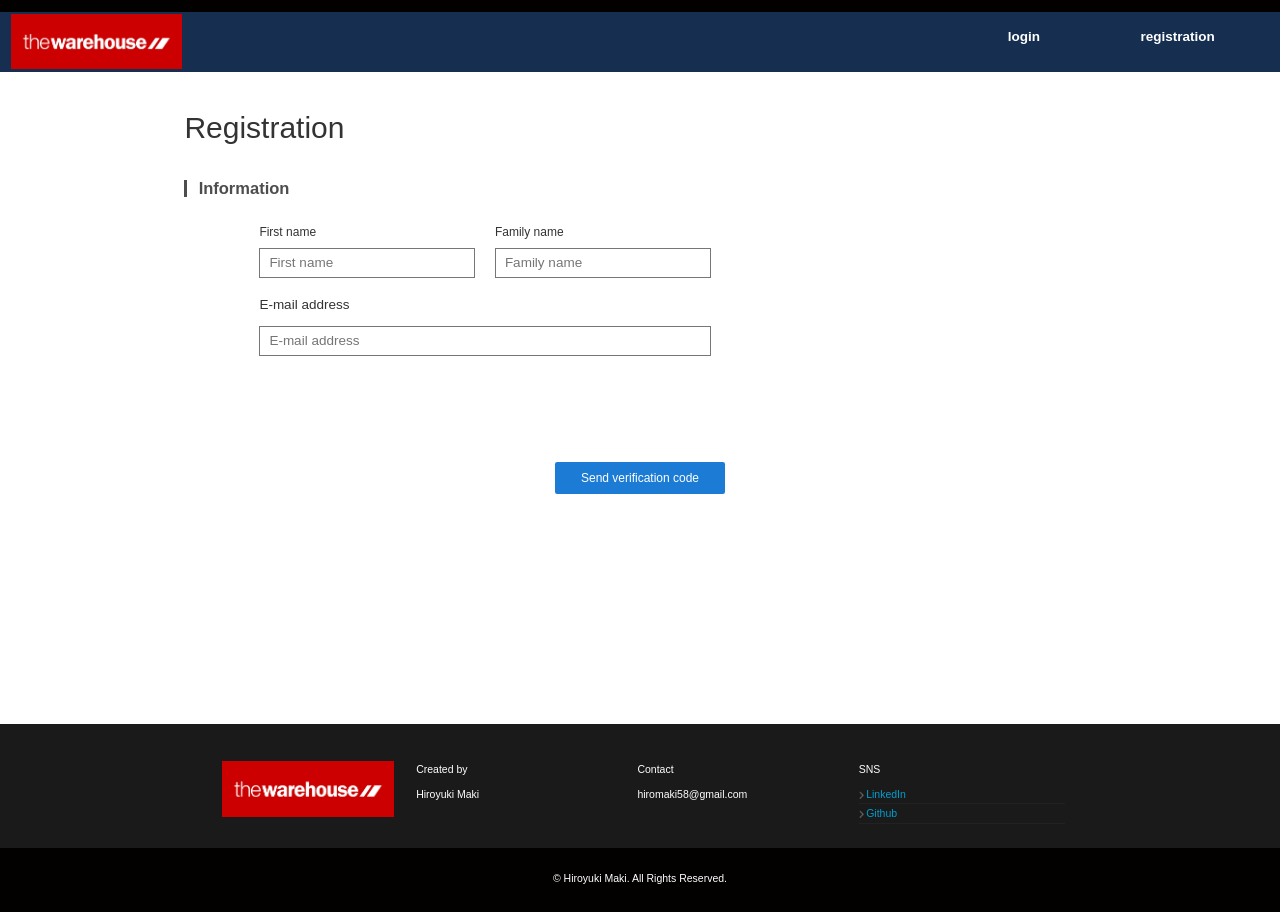
RegistrationPage › shows a message for an invalid code and stays on the code step
Type "Taro" into the field labelled "First name" at (367, 263), box [259,248,475,278]
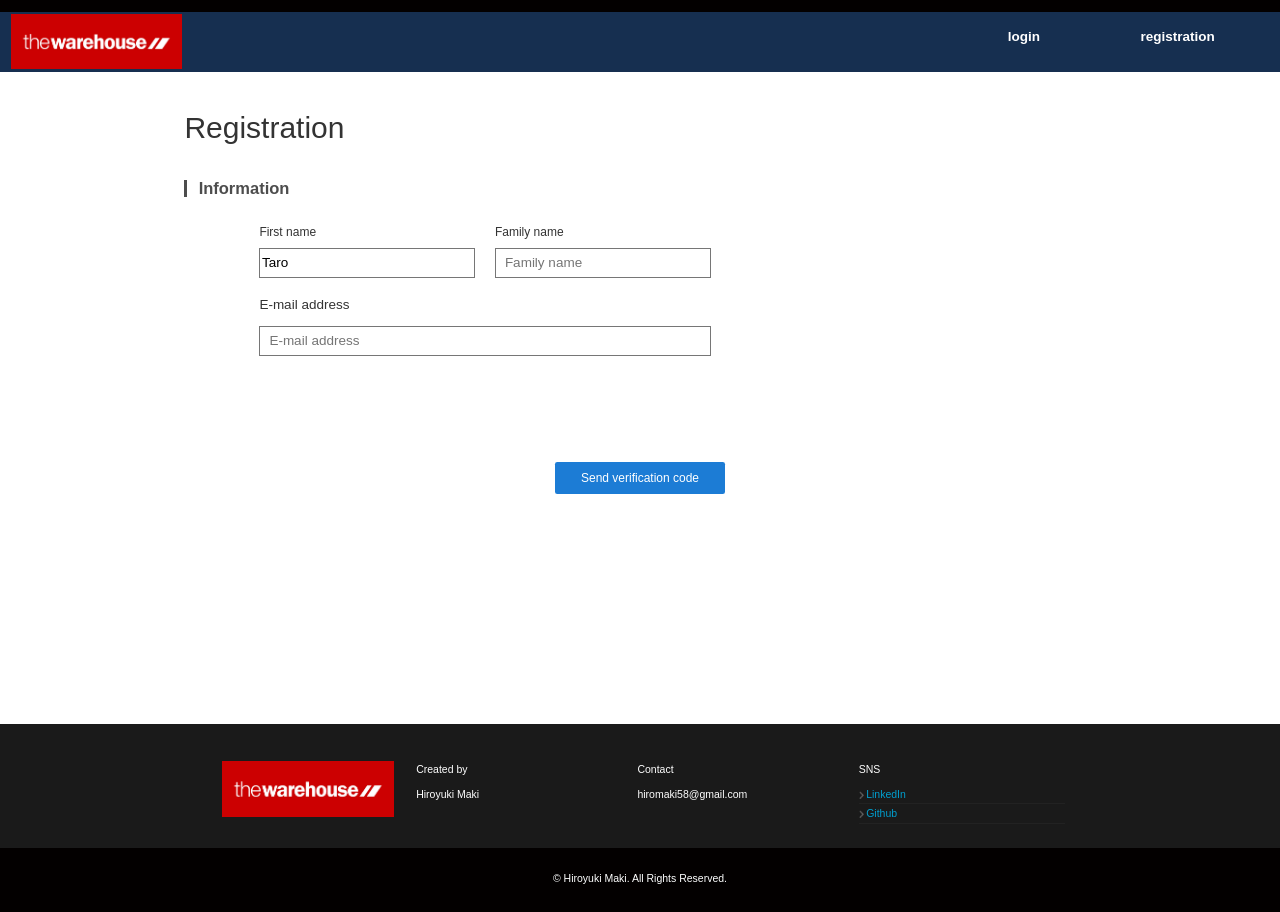
Type "Yamada" into the field labelled "Family name" at (603, 263), box [495,248,711,278]
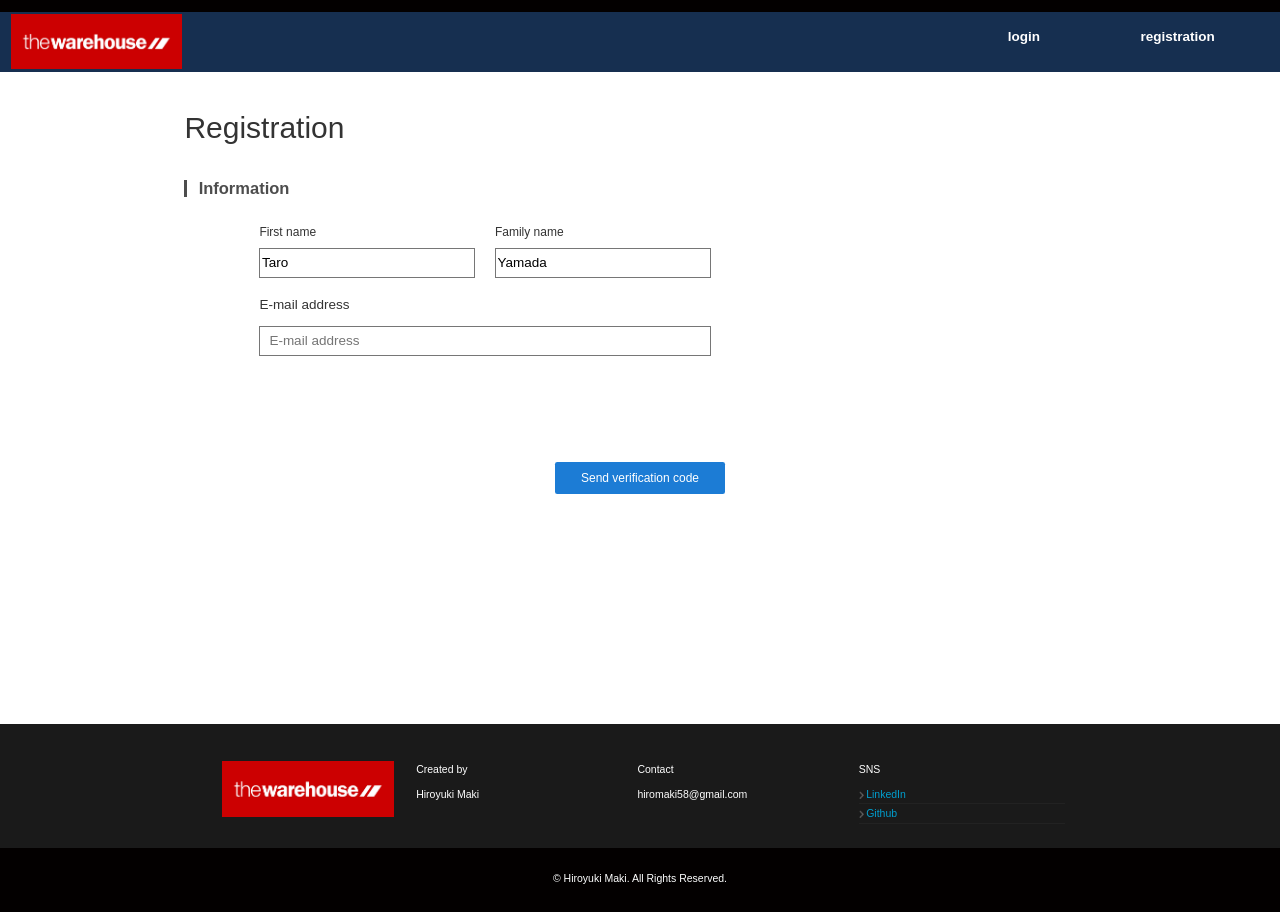
Type " taro@example.com " into the field labelled "E-mail address" at (485, 341), box [259,326,711,356]
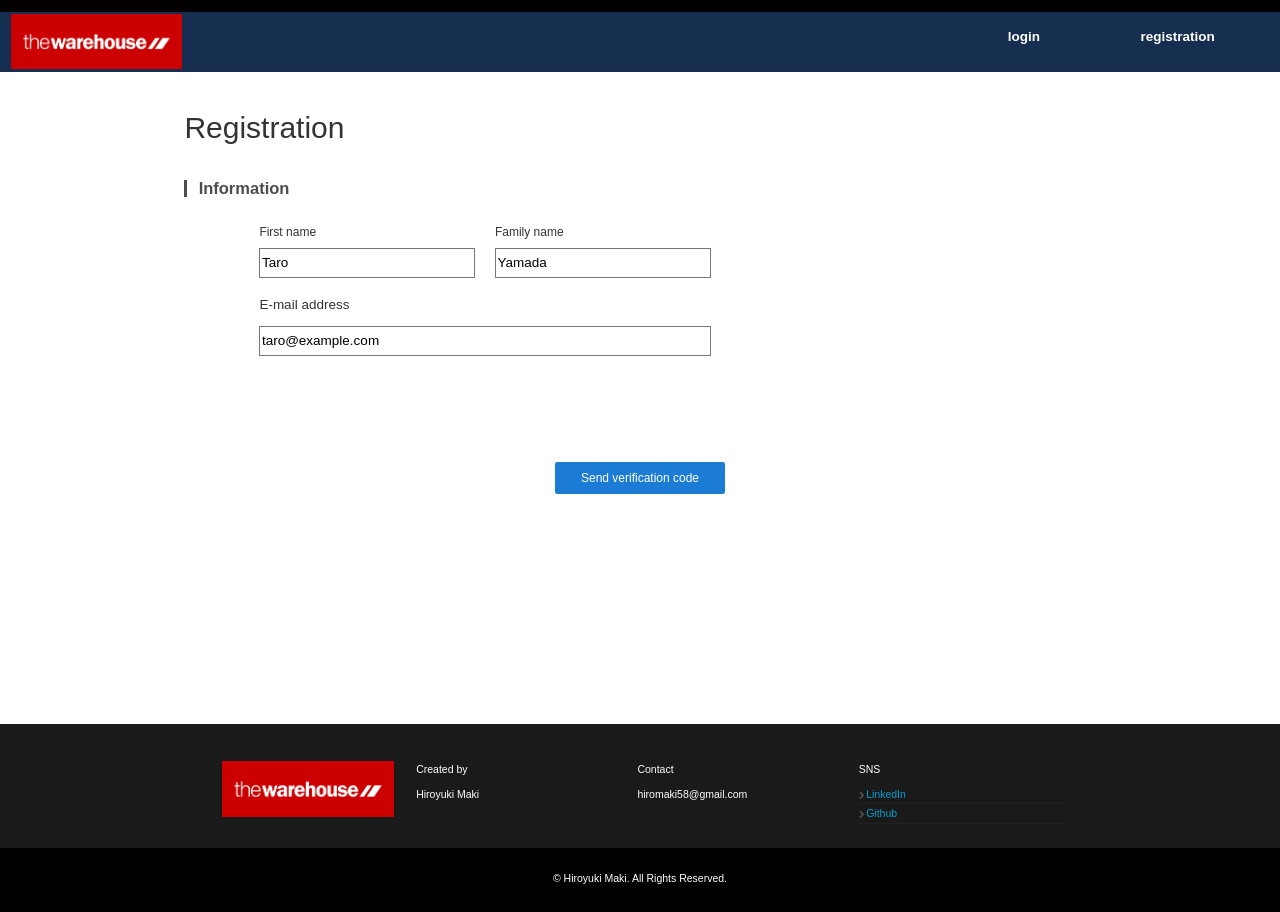
Click the button "Send verification code" at (640, 478), box [556,462,725,494]
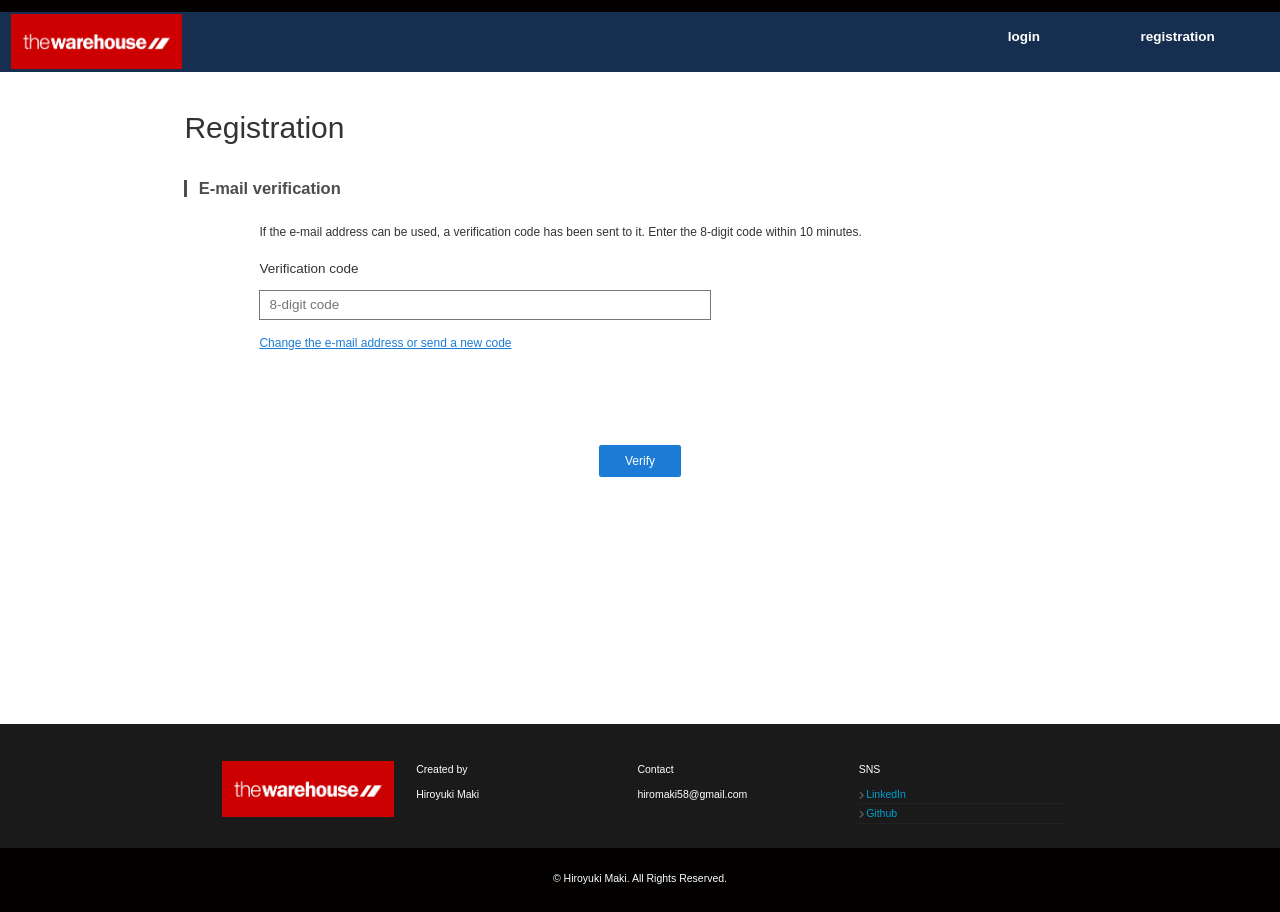
expect the heading "E-mail verification" is shown: met, box [184,180,1096,196]
Type "12345678" into the field labelled "Verification code" at (485, 305), box [259,290,711,320]
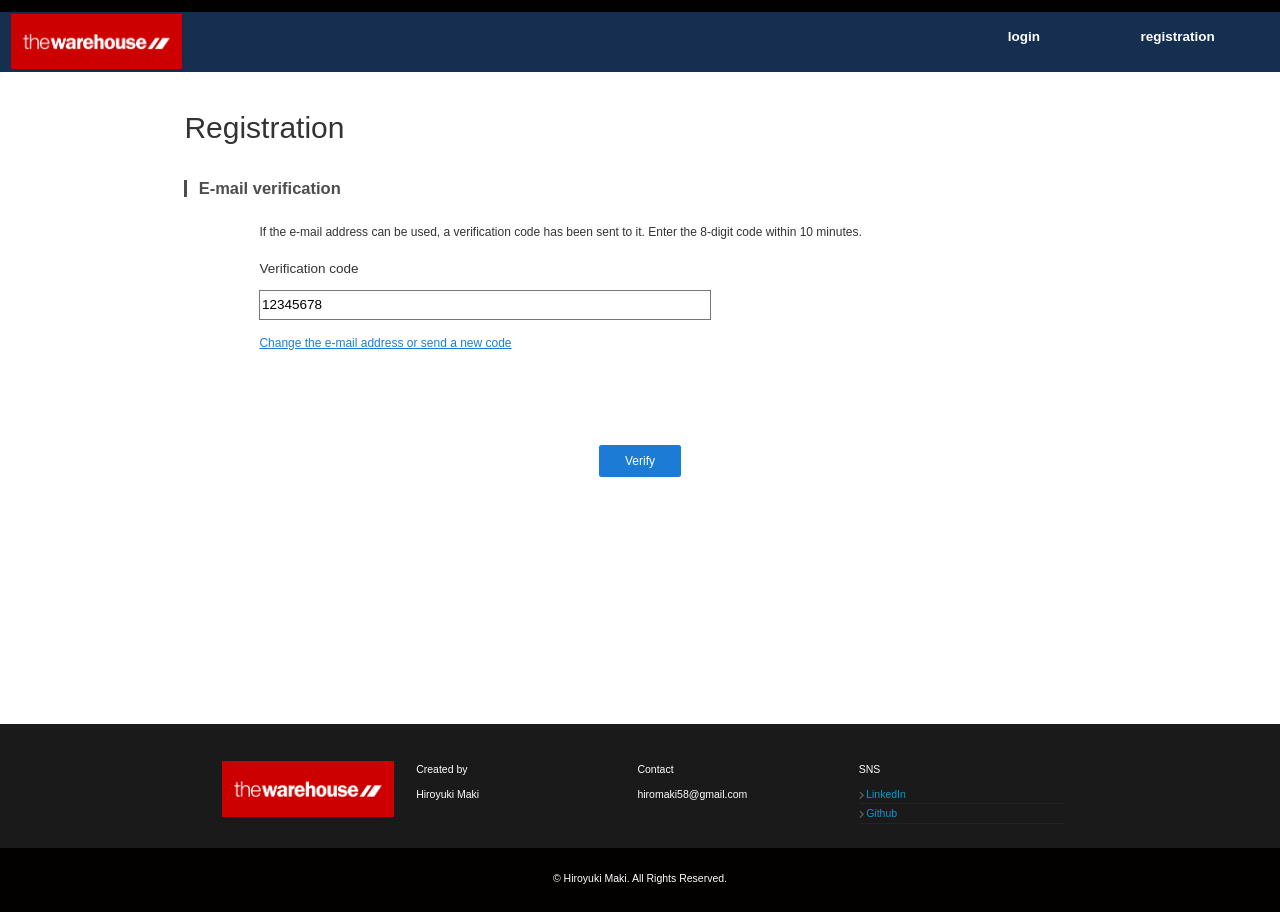
Click the button "Verify" at (640, 461), box [600,445,680,477]
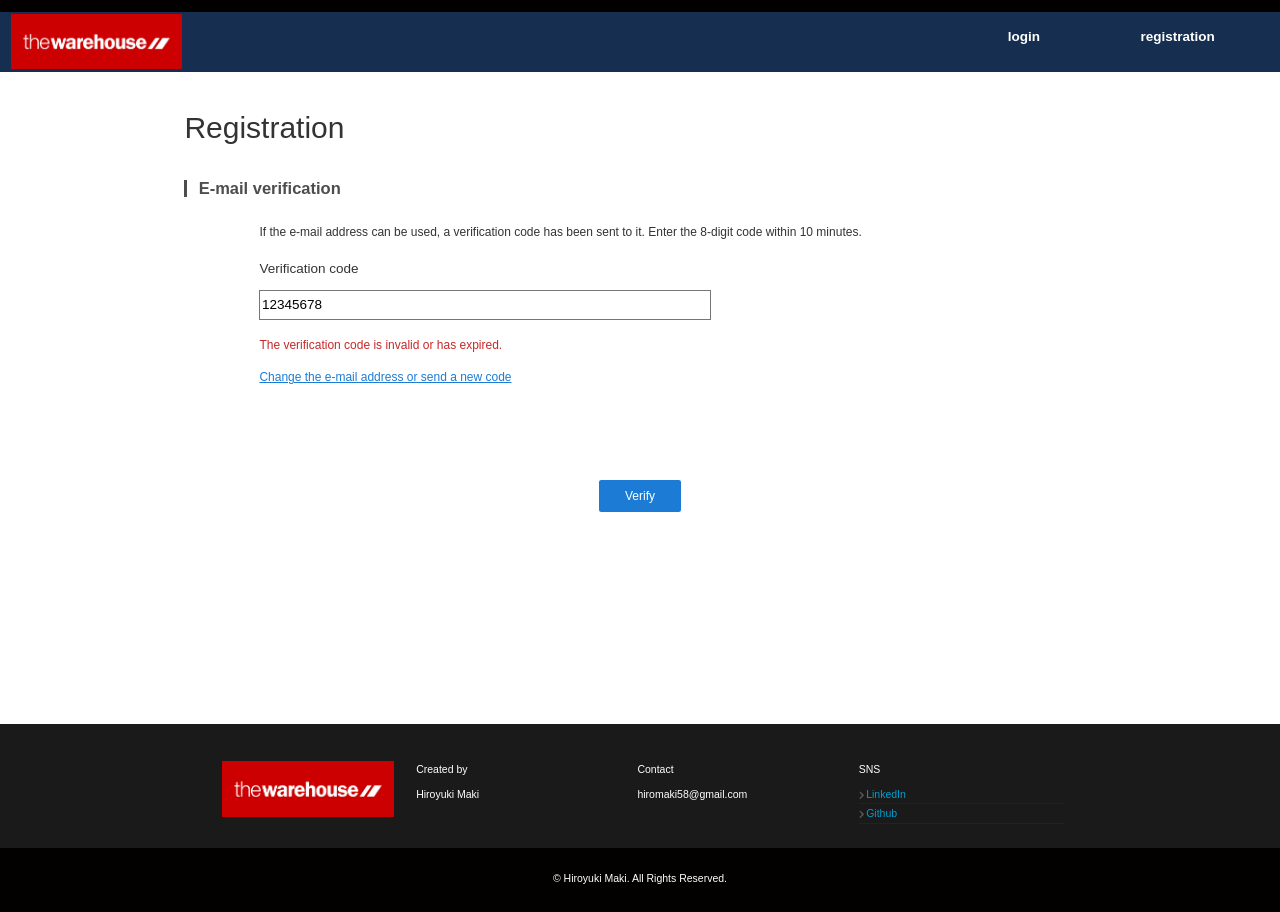
expect the message shows "invalid or has expired": met, box [259,338,502,352]
